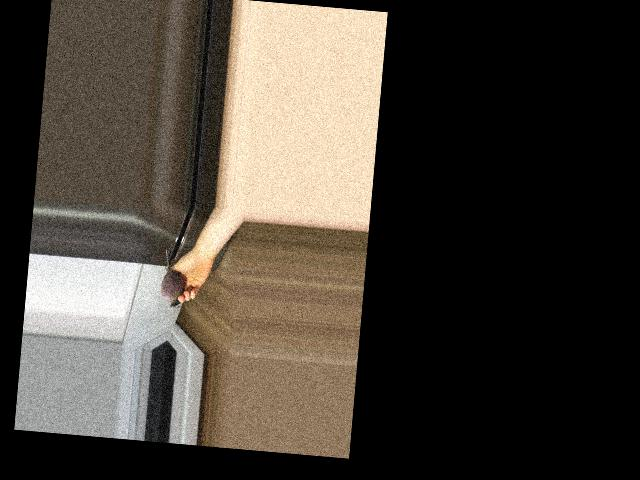beet: (159, 249, 186, 308)
